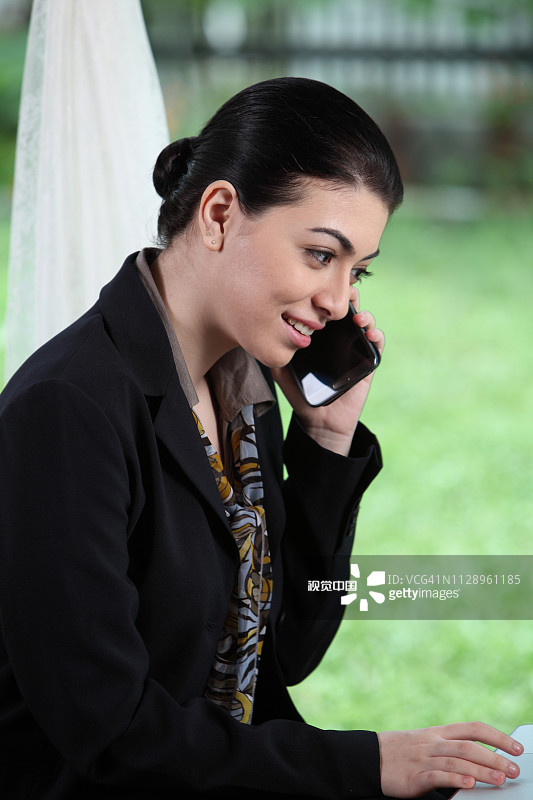calling: (250, 254, 423, 455)
no-phone: (354, 696, 530, 800)
